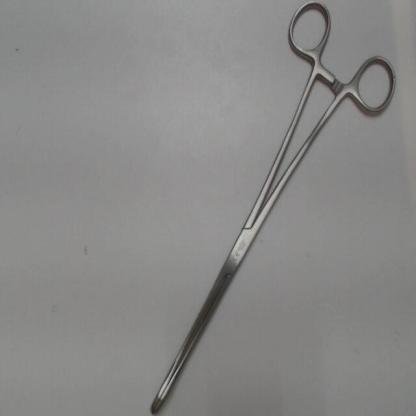Sponge Forceps: (143, 0, 400, 415)
